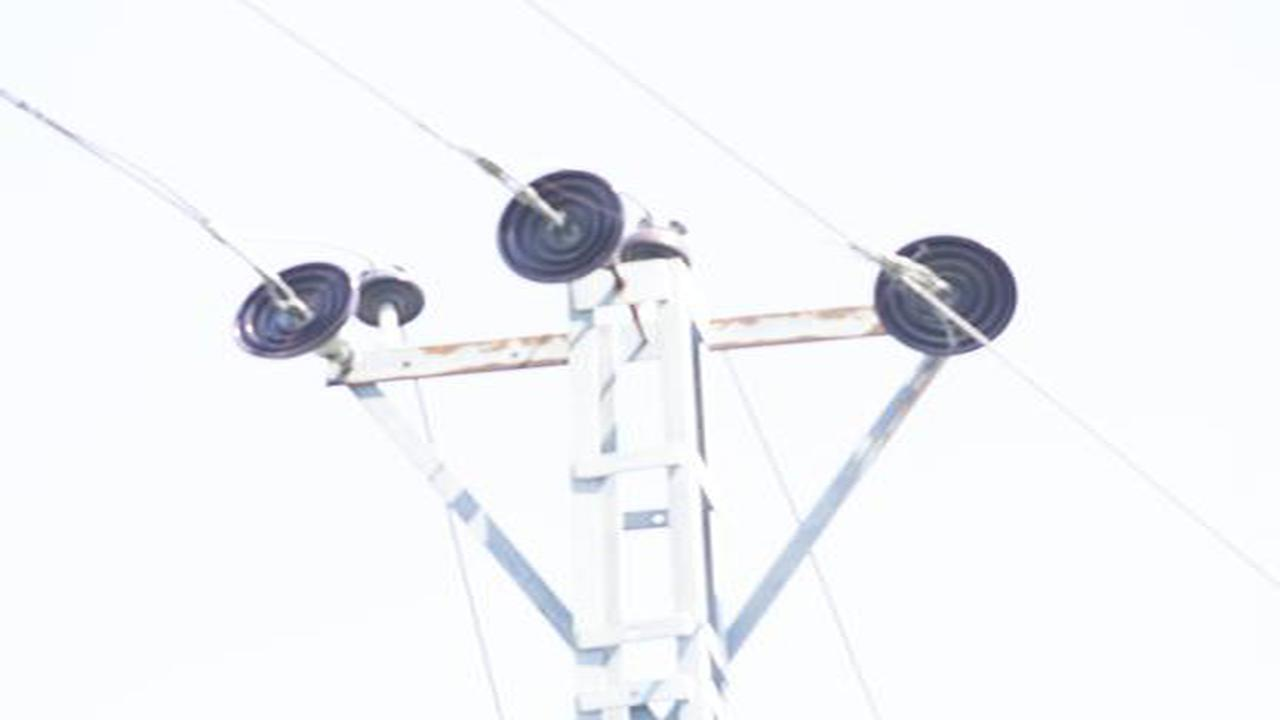insulator_disc: (871, 235, 1020, 354), (493, 166, 627, 284), (235, 259, 354, 359)
insulator_pin: (357, 261, 425, 325), (629, 211, 692, 266)
